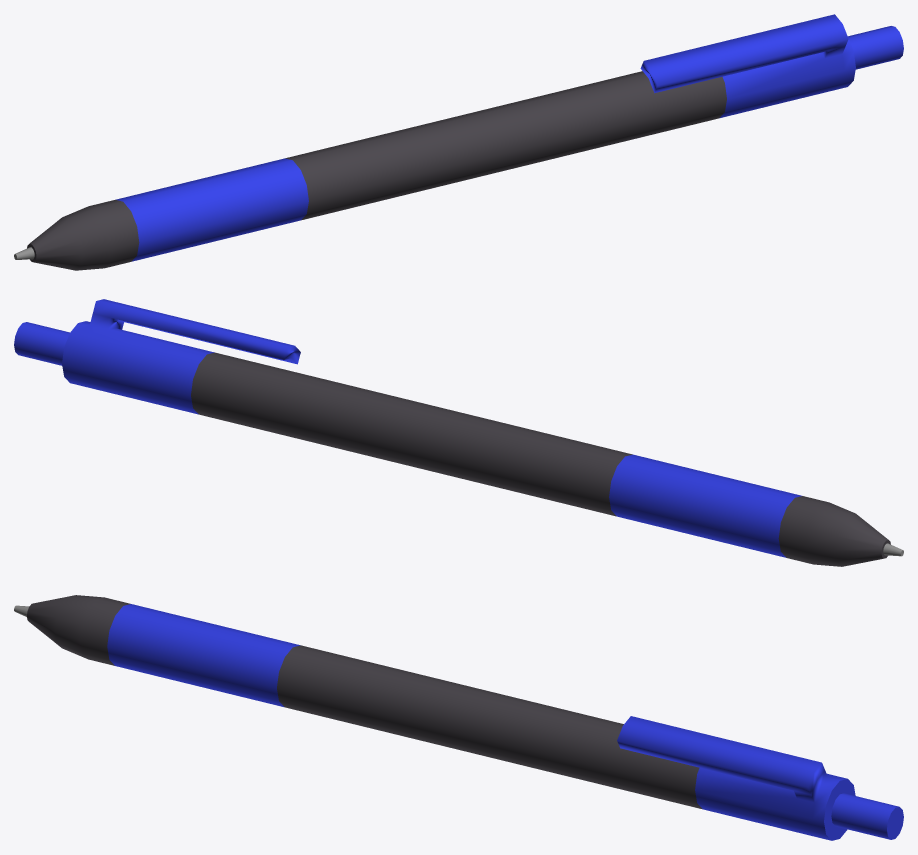
Rendered from Pen.fbx.
3 views of the same model, one above another, from view 1: azimuth 30°, elevation 25°; view 2: azimuth 150°, elevation 25°; view 3: azimuth 330°, elevation 25° (orthographic).
Parts seen in each view (by area): view 1: Cylinder.003; view 2: Cylinder.003; view 3: Cylinder.003.
Boxes of the visible parts, x1,y1,x2,y2 form: Cylinder.003: (14,14,903,270); Cylinder.003: (14,299,903,566); Cylinder.003: (14,595,903,840).
Bounding box in the file's own units: 25.56 × 2.17 × 1.83.
